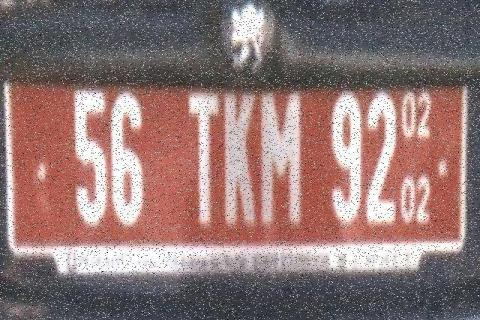LicensePlate: (4, 81, 467, 279)
